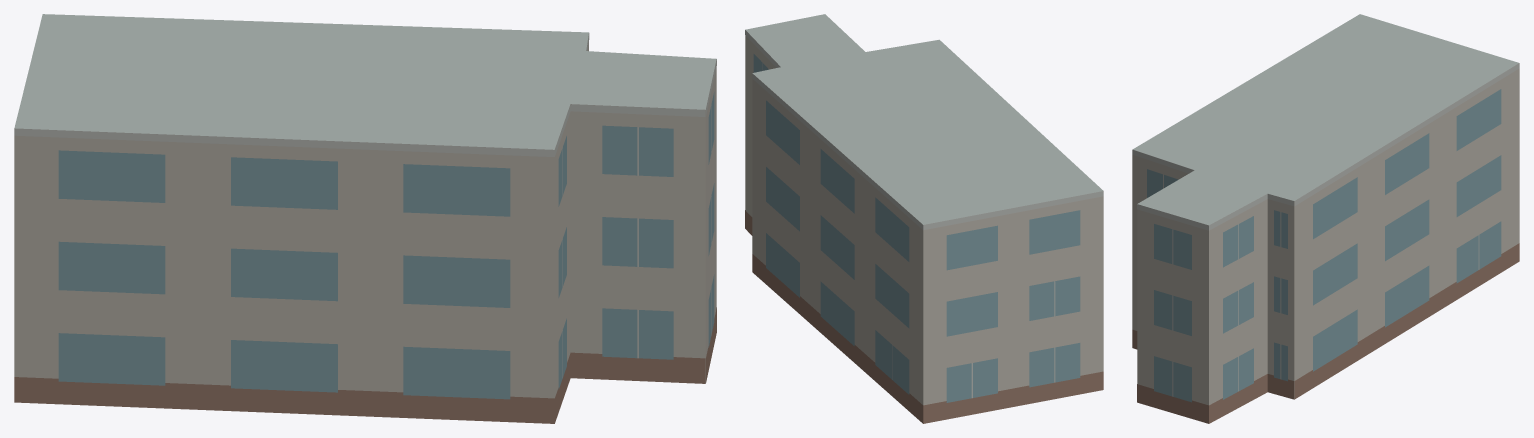
File: survey-upis-32655749.glb
3 renders of one model, left to right at view 1: azimuth 30°, elevation 25°; view 2: azimuth 150°, elevation 25°; view 3: azimuth 270°, elevation 25°, orthographic. The views are drawn at different scales.
Visible parts, largest first — view 1: survey-upis-32655749.tmp; view 2: survey-upis-32655749.tmp; view 3: survey-upis-32655749.tmp.
Boxes of the visible parts, box(x1,y1,x2,y2) form: survey-upis-32655749.tmp: box(14, 14, 716, 423); survey-upis-32655749.tmp: box(745, 14, 1103, 423); survey-upis-32655749.tmp: box(1132, 14, 1519, 423).
Bounding box in the file's own units: 20.91 × 9.15 × 16.18.
